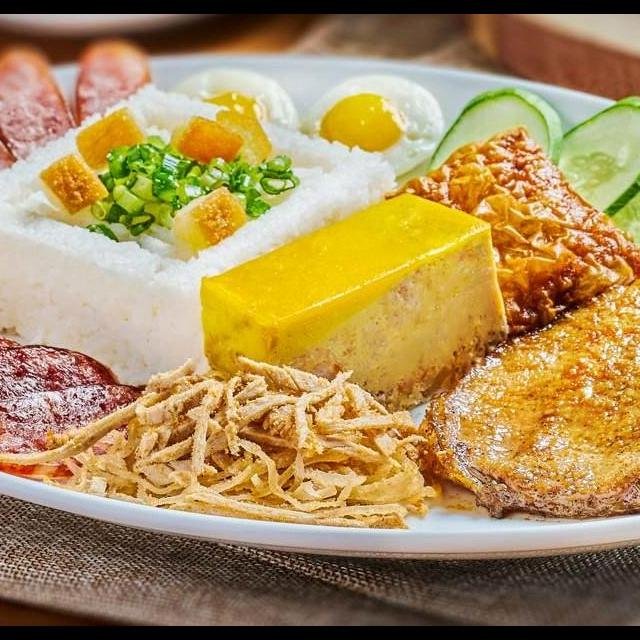bi: (41, 351, 442, 534)
cha: (194, 188, 513, 413)
com: (0, 78, 400, 392)
com suon bi cha trung: (0, 34, 640, 567)
suon: (410, 241, 640, 525), (386, 125, 640, 342)
trung: (296, 69, 448, 186), (171, 64, 309, 136)
